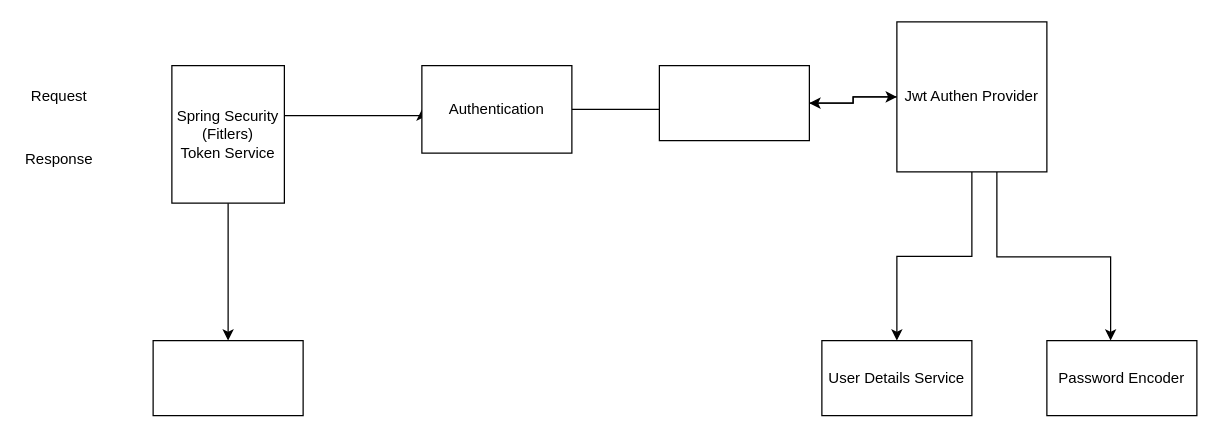
Some shapes in this 1219 by 438 pixel diagram are drawn without their labels. Here are the shapes that lost their labels. From the top down, the centre of each, then its label:
At [733,102]: "Authentication Manager Provider Manager".
At [227,377]: "Security Context".
